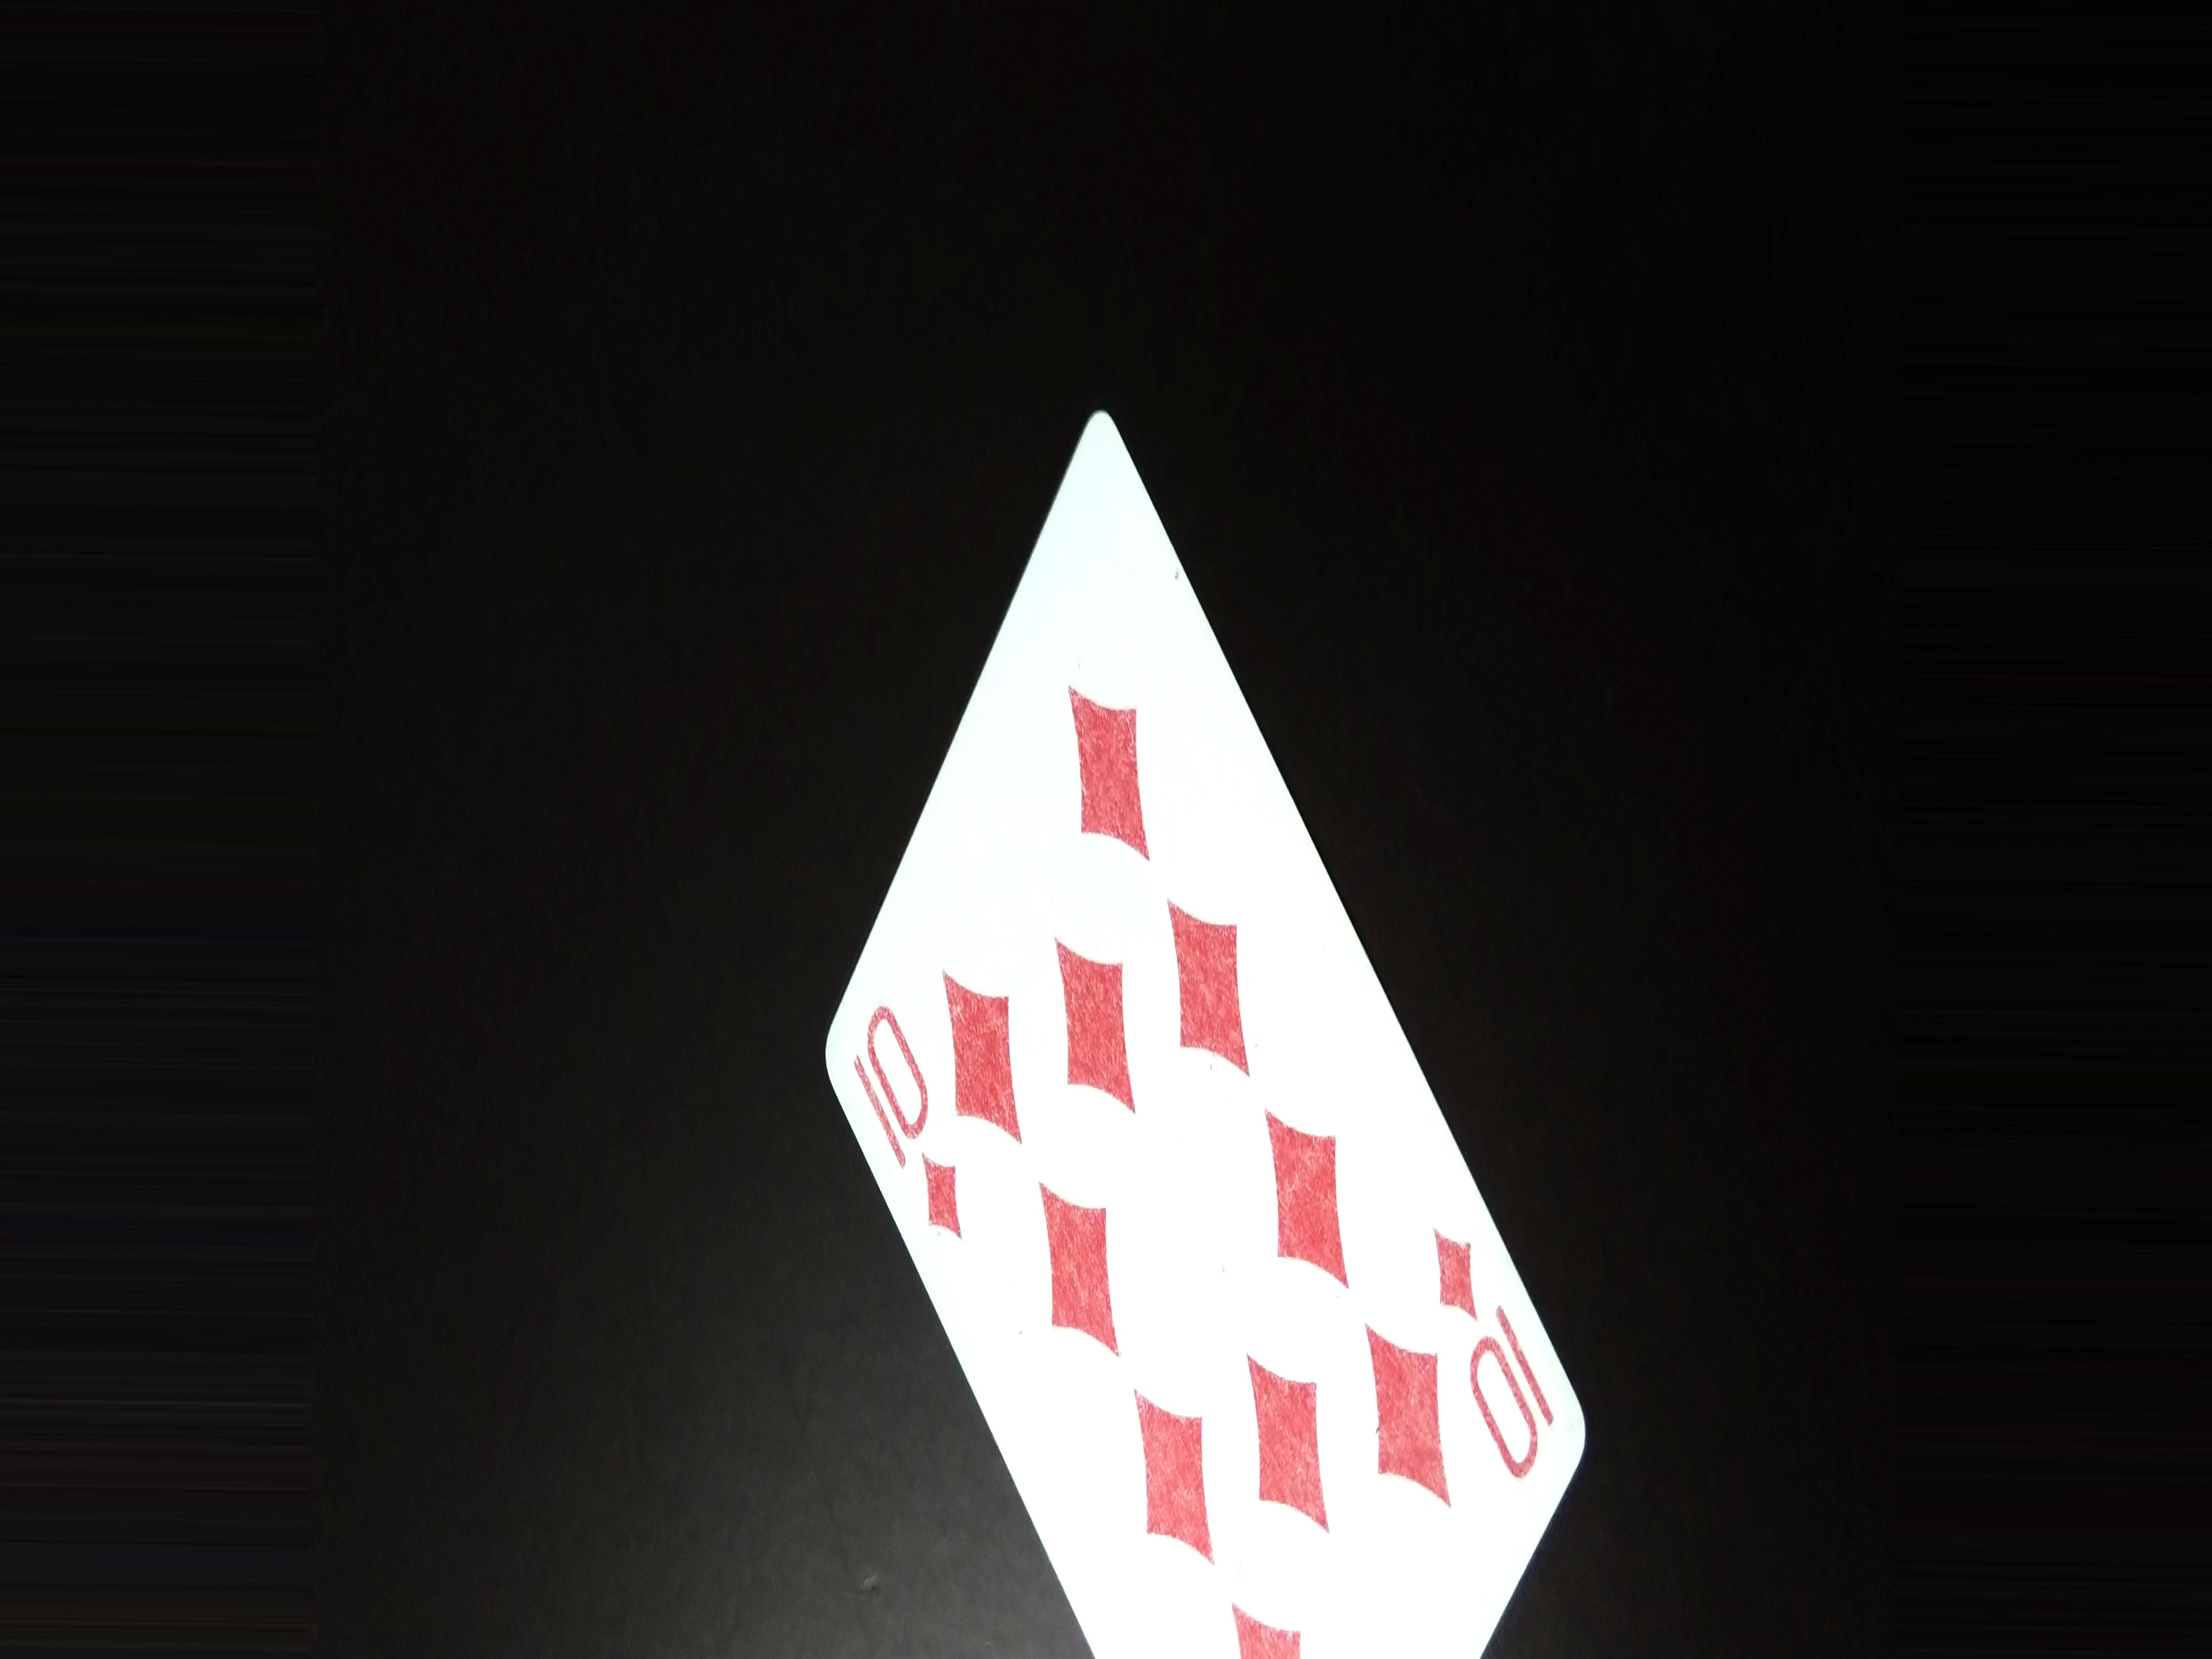10D: (1425, 1229, 1576, 1495)
